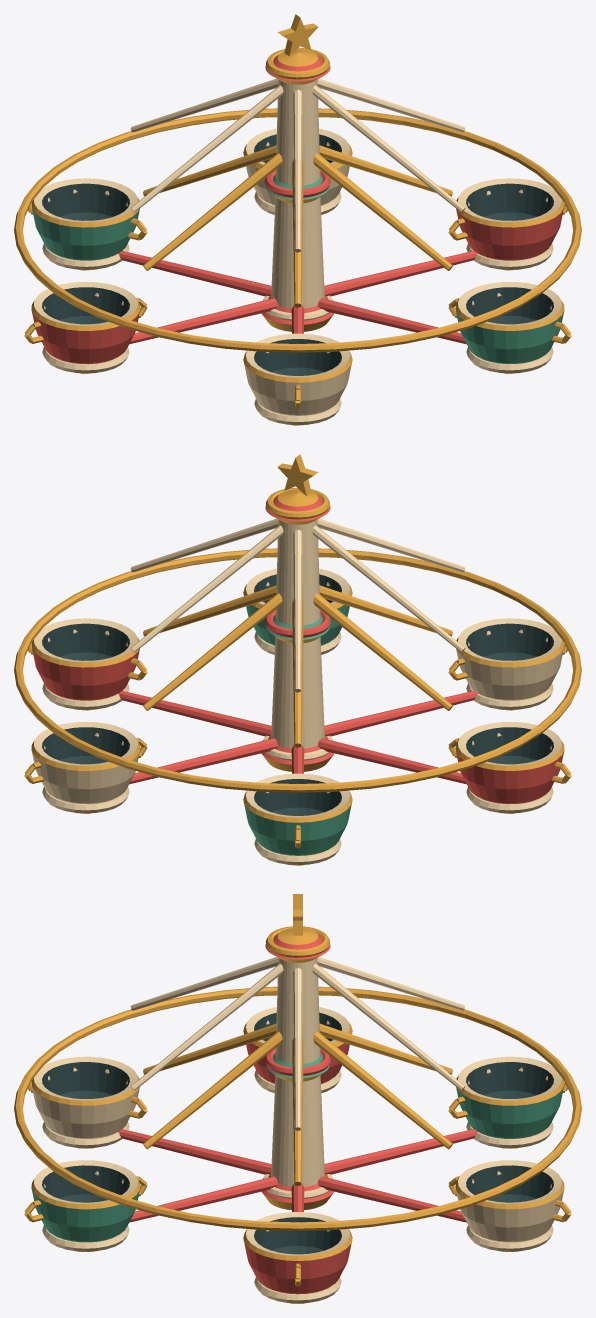
Rendered from ParkParkTeacupsRotor.obj.
3 views of the same model, one above another, from view 1: azimuth 30°, elevation 25°; view 2: azimuth 150°, elevation 25°; view 3: azimuth 270°, elevation 25° (orthographic).
Visible parts, largest first — view 1: ParkParkTeacupsRotor; view 2: ParkParkTeacupsRotor; view 3: ParkParkTeacupsRotor.
Part boxes in pixels (x1,y1,x2,y2): ParkParkTeacupsRotor: (14,14,581,425); ParkParkTeacupsRotor: (14,454,581,865); ParkParkTeacupsRotor: (14,894,581,1303).
Bounding box in the file's own units: 15.45 × 8.2 × 13.92.
